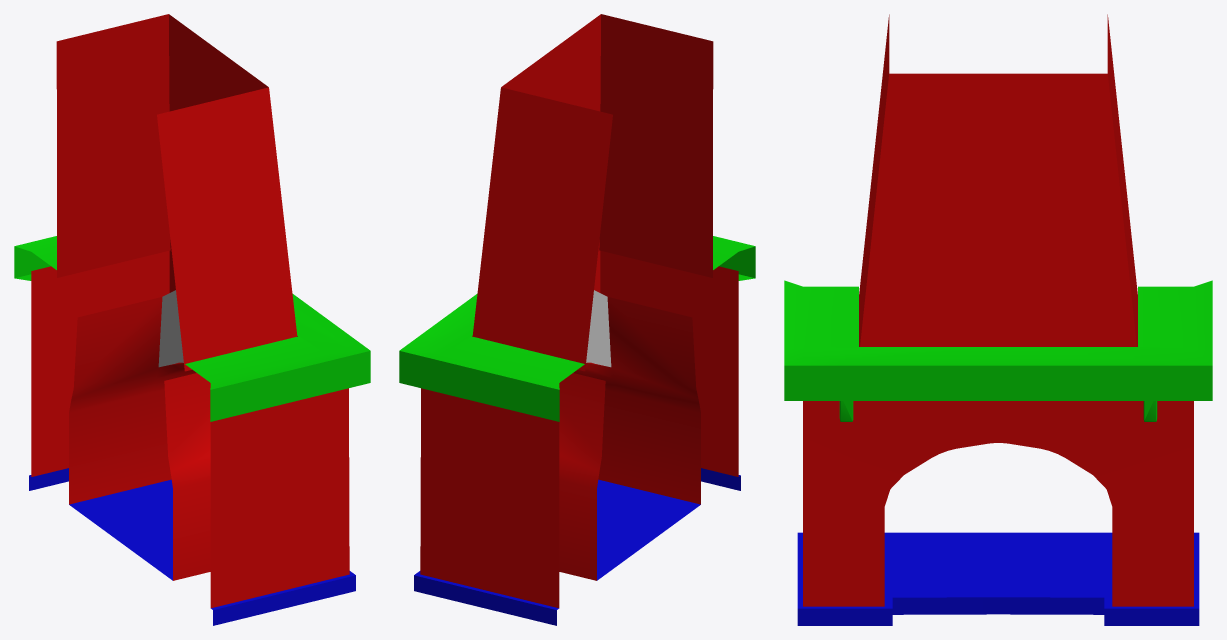
File: cheminee.fbx
3 renders of one model, left to right at view 1: azimuth 30°, elevation 25°; view 2: azimuth 150°, elevation 25°; view 3: azimuth 270°, elevation 25°, orthographic. The views are drawn at different scales.
Visible parts, largest first — view 1: cheminee; view 2: cheminee; view 3: cheminee.
Part boxes in pixels (x1,y1,x2,y2): cheminee: [14, 14, 370, 625]; cheminee: [399, 14, 755, 625]; cheminee: [784, 14, 1212, 625].
Bounding box in the file's own units: 107 × 298 × 219.
